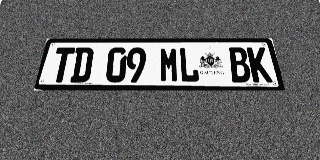0: (105, 47, 127, 82)
9: (125, 47, 146, 82)
B: (227, 47, 252, 82)
D: (69, 47, 94, 82)
K: (246, 47, 273, 82)
L: (179, 47, 200, 82)
M: (159, 47, 179, 82)
T: (49, 47, 75, 82)
